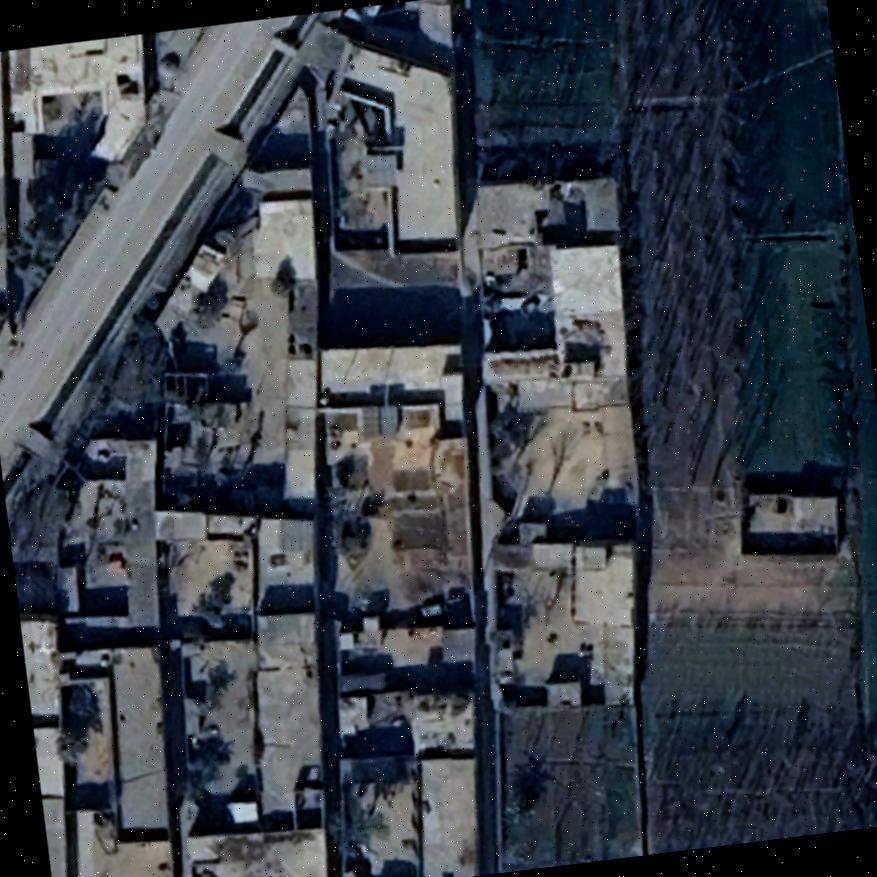Solarpanel: (356, 398, 403, 442)
